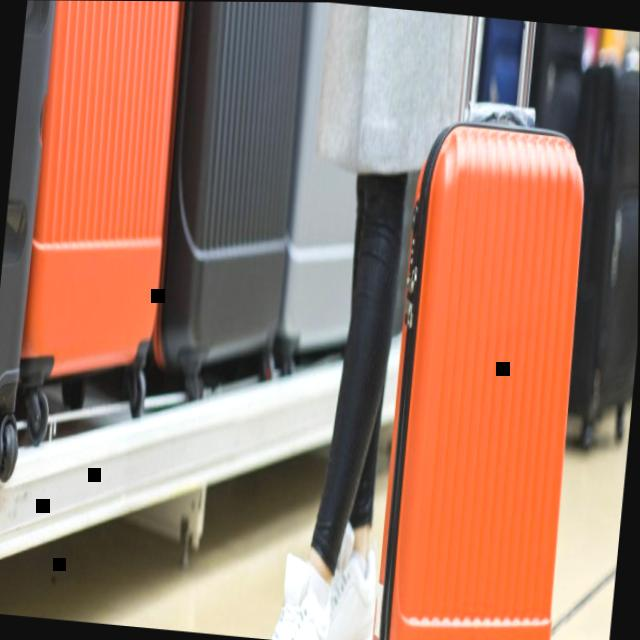luggage: (370, 88, 604, 640), (11, 0, 189, 429), (148, 1, 313, 411)
